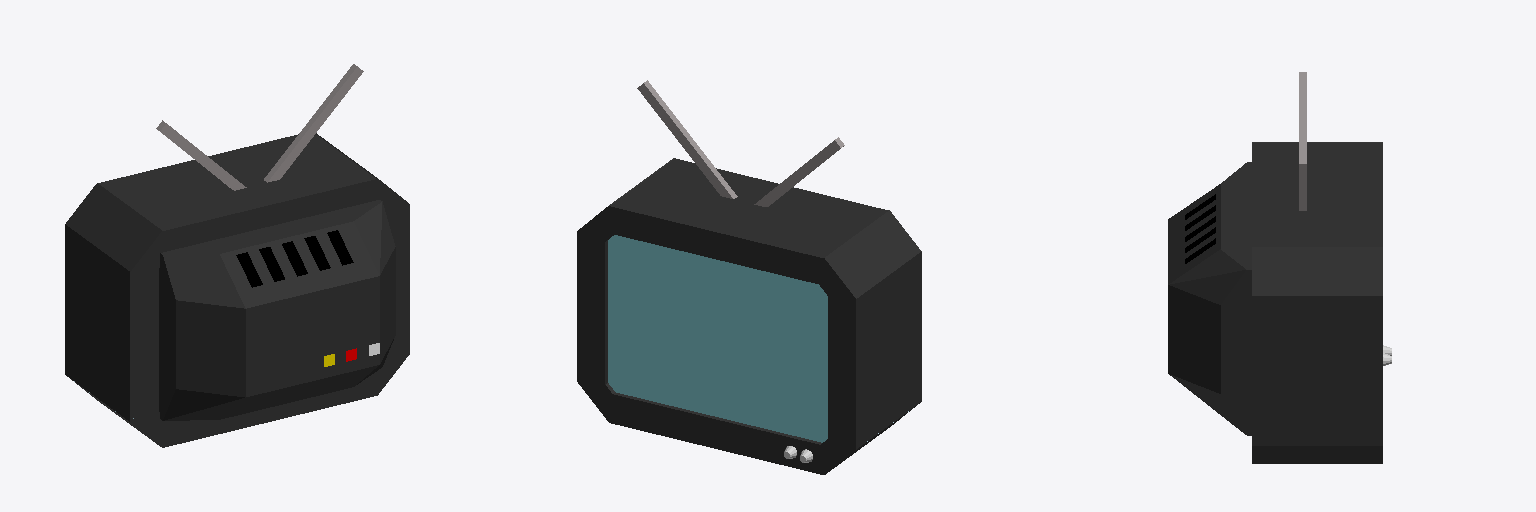
3 renders of one model, left to right at view 1: azimuth 30°, elevation 25°; view 2: azimuth 150°, elevation 25°; view 3: azimuth 270°, elevation 25°, orthographic.
Parts seen in each view (by area): view 1: corner, cuboid, cube; view 2: corner, tvBase, cube; view 3: corner, cuboid, cube.
Part boxes in pixels (bbox=[...]): corner: bbox=[65, 133, 409, 447]; cuboid: bbox=[159, 200, 395, 420]; cube: bbox=[156, 64, 363, 190]; corner: bbox=[577, 158, 921, 474]; tvBase: bbox=[608, 235, 827, 442]; cube: bbox=[637, 80, 844, 206]; corner: bbox=[1252, 142, 1382, 463]; cuboid: bbox=[1168, 162, 1251, 435]; cube: bbox=[1299, 72, 1306, 210].
Size of the model in its own units: 0.7707 by 0.821 by 0.5344.
1 materials, 1 textured.